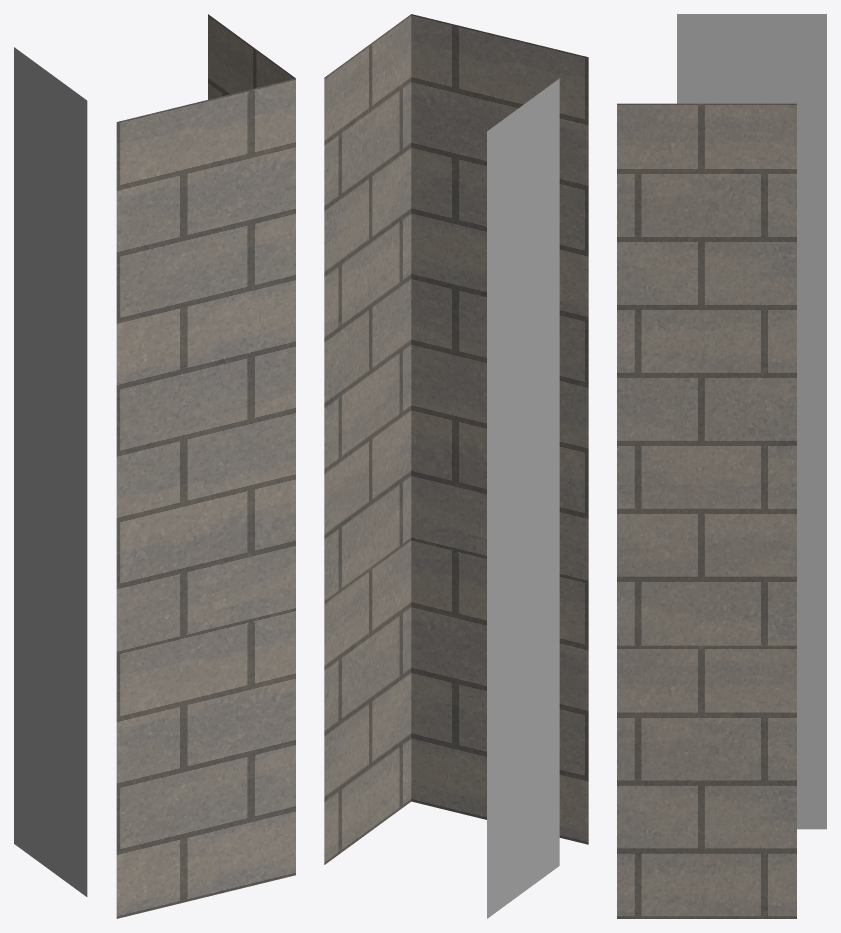
The model's file is Wall_WhiteBrick_90Angle_L.gltf.
3 renders of one model, left to right at view 1: azimuth 30°, elevation 25°; view 2: azimuth 150°, elevation 25°; view 3: azimuth 270°, elevation 25°, orthographic. The views are drawn at different scales.
Visible parts, largest first — view 1: Wall_WhiteBrick_90Angle_L; view 2: Wall_WhiteBrick_90Angle_L; view 3: Wall_WhiteBrick_90Angle_L.
Boxes of the visible parts, <box> form: Wall_WhiteBrick_90Angle_L: <box>14,14,295,918</box>; Wall_WhiteBrick_90Angle_L: <box>324,14,588,918</box>; Wall_WhiteBrick_90Angle_L: <box>617,14,826,918</box>.
Size of what is drawn, in the model's own units: 0.7062 by 3 by 0.7.
